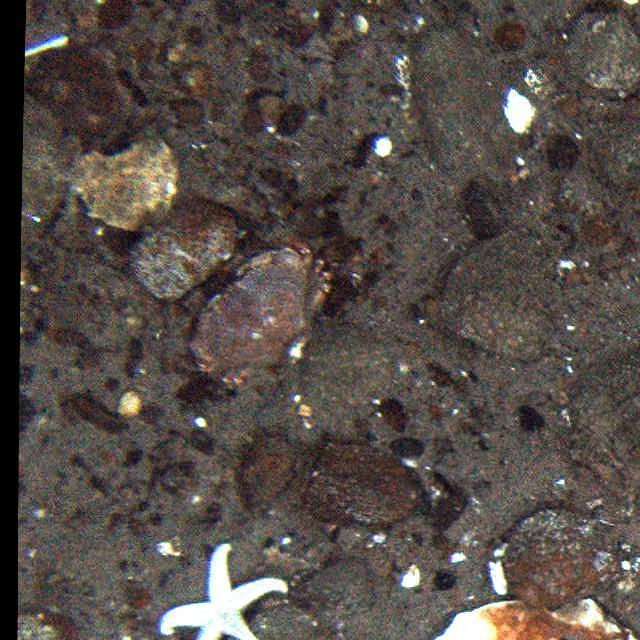crab: (184, 236, 330, 391)
